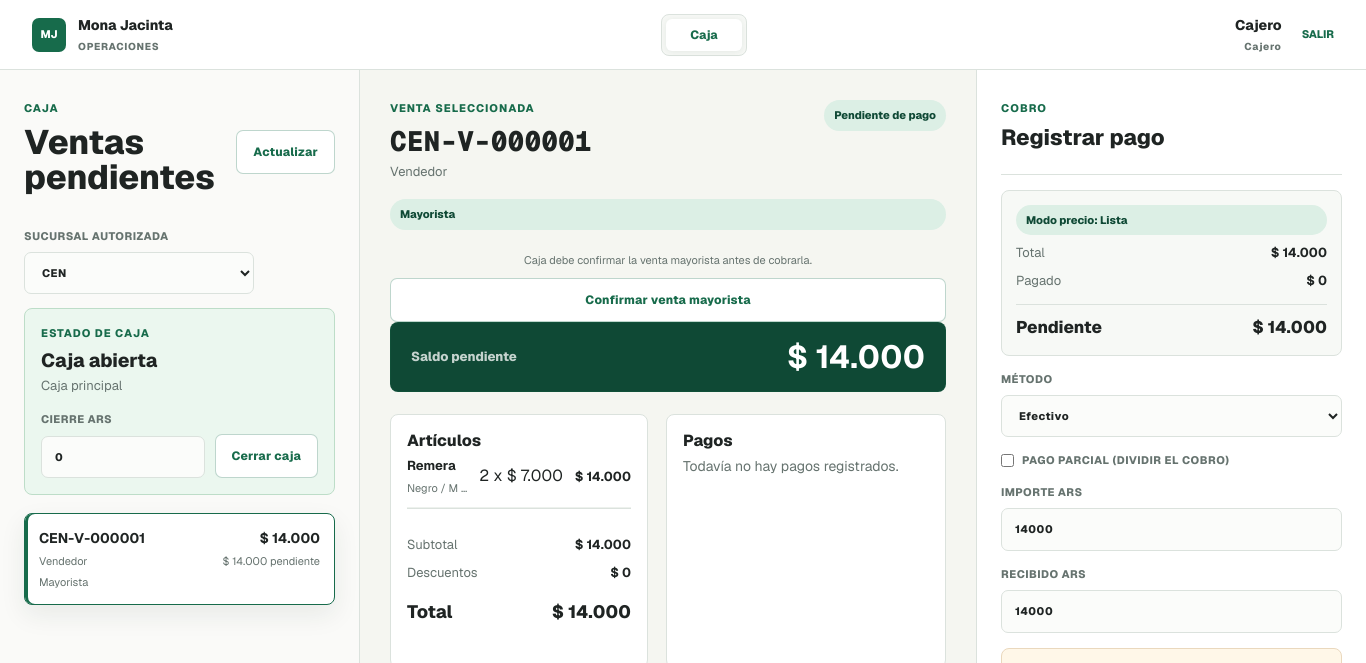
Scenario: Block 1 wholesale UI › cashier must confirm a wholesale sale before payment is offered
Expected: the heading "CEN-V-000001" is shown, [390,124,592,157]
Expected: the text "Mayorista" below "Cierre ARS" is shown, [39,575,88,589]
Step 1. Click the button "Confirmar venta mayorista" → (668, 300), box [390,278,946,322]
(page scrolled)
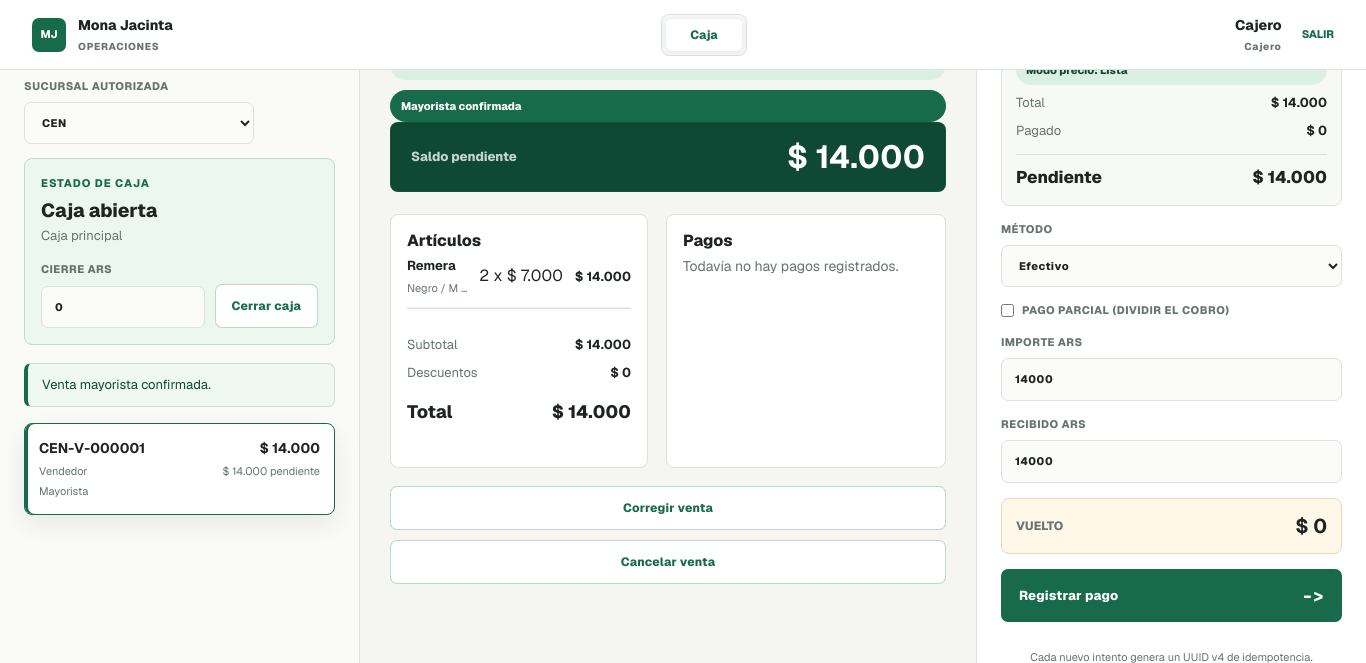
Result: the text "Mayorista confirmada" is shown at [390,90,946,122]
Result: the button "Registrar pago ->" is enabled at [1001,569,1342,622]
